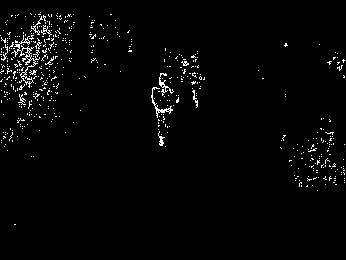person: (150, 70, 180, 148)
